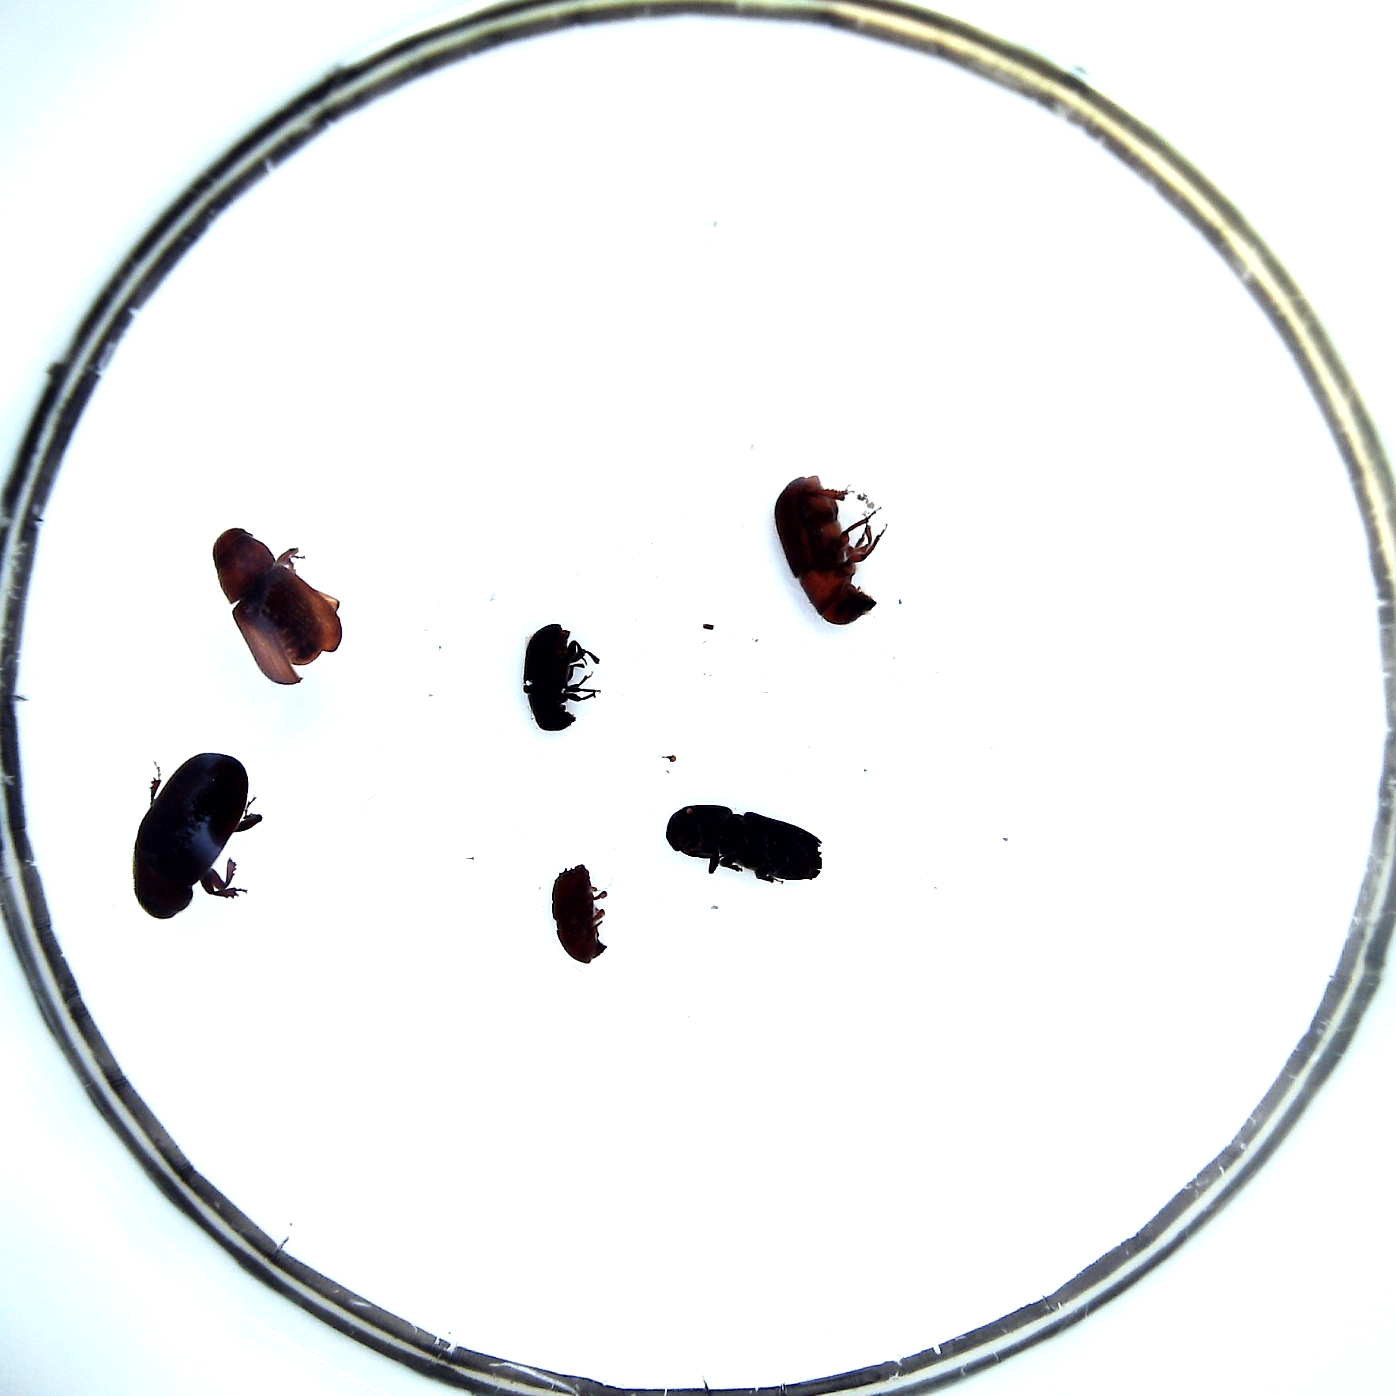Boerner: (667, 807, 822, 880)
Leconte: (130, 750, 249, 920), (213, 528, 340, 684), (773, 476, 878, 626)
armandi: (523, 624, 574, 730)
linnaeus: (551, 863, 607, 964)
